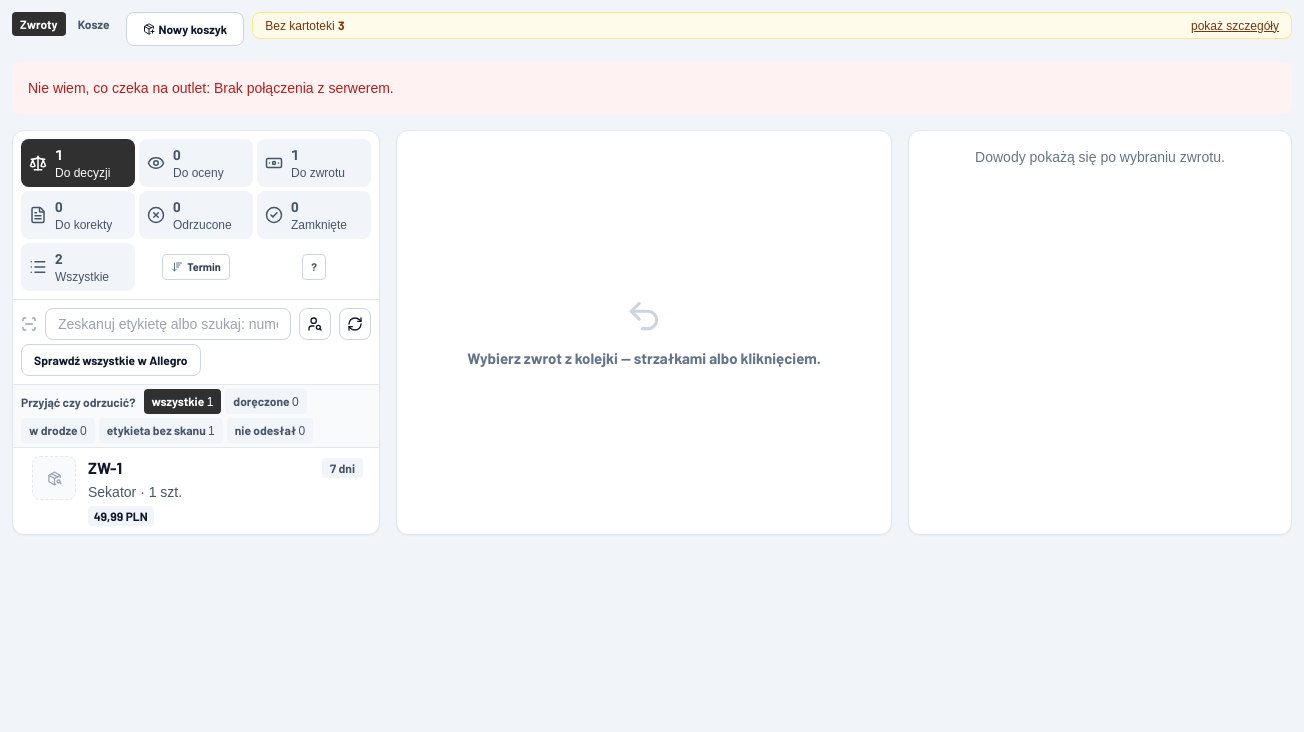
Test: Ekran zwrotów › fragment kodu zawęża kolejkę i sięga POZA wybrany kubełek
In the field with placeholder "Zeskanuj etykietę": x=168, y=324 [45,308,291,340], type "ZW-"
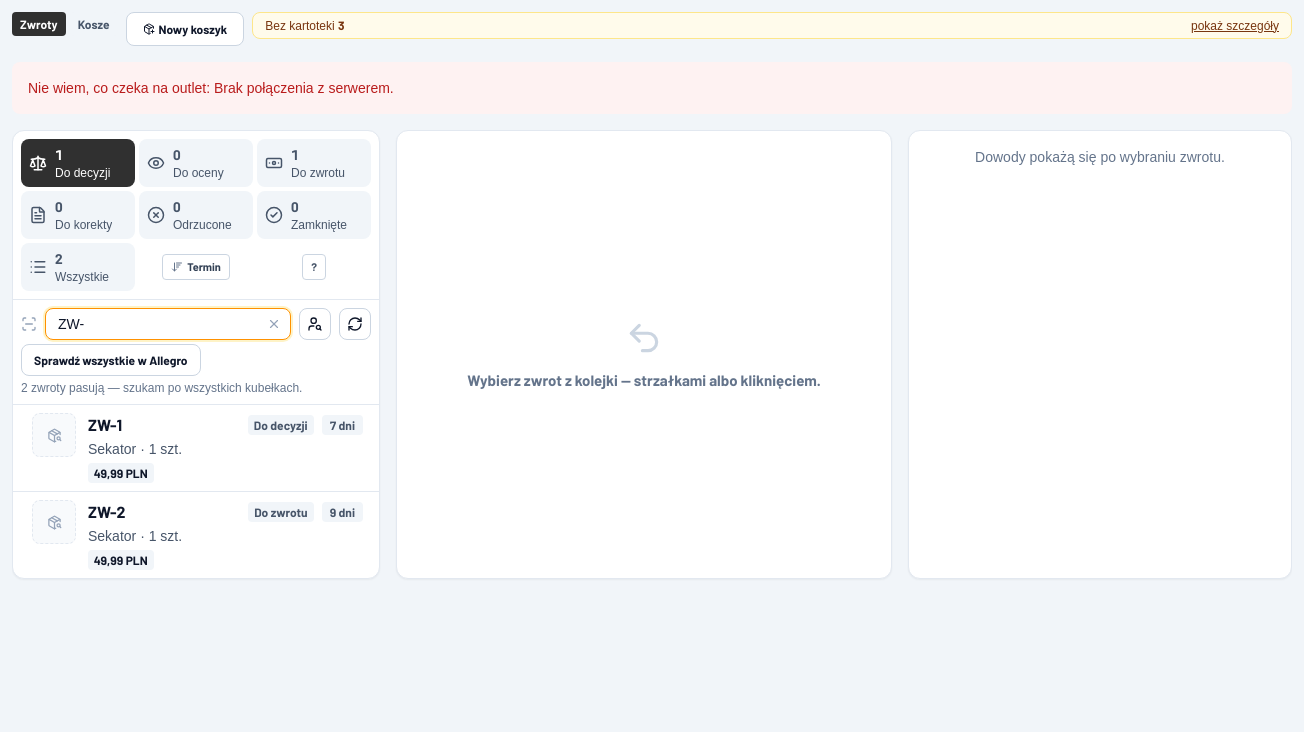
Now the text "2 zwroty pasują — szukam po wszystkich kubełkach." is shown, box [21,381,302,395]
